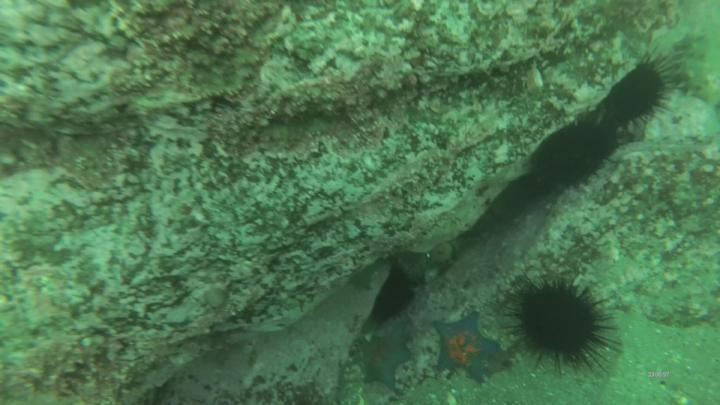echinus: (513, 275, 607, 379), (531, 117, 608, 196), (603, 61, 667, 137), (364, 260, 417, 320)
starfish: (431, 312, 503, 385), (357, 326, 417, 392)
